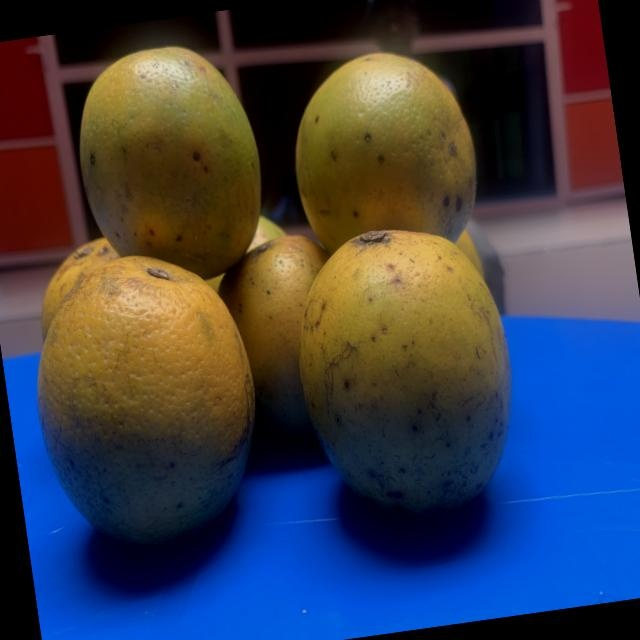agrume: (10, 253, 276, 575), (273, 208, 529, 540), (61, 37, 279, 291), (266, 30, 494, 257)
